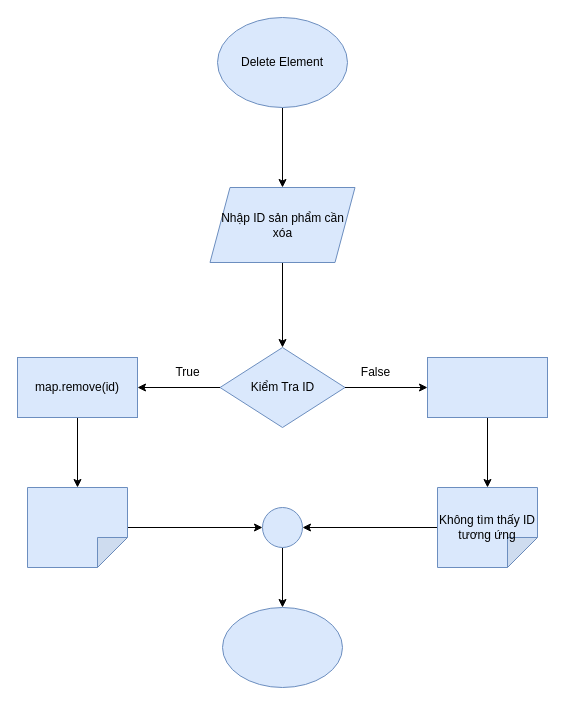
Some shapes in this 565 by 705 pixel diagram are drawn without their labels. The centre of each missing label's shape, as x and y in pixels:
Không thực hiện: the point at 487,387
Kết thúc: the point at 282,647
Xóa thành công: the point at 77,527
